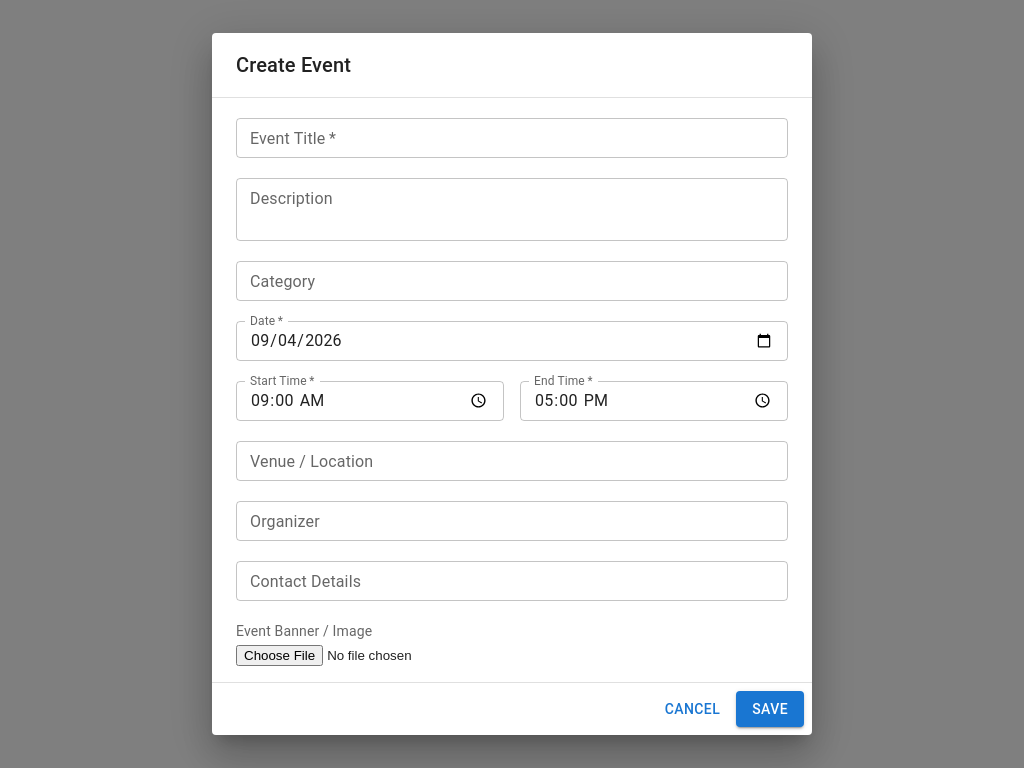
Scenario: EventFormDialog › rejects an event date in the past
The width and height of the screenshot is (1024, 768).
Type "Diwali Milan" into the field labelled "Event Title *".
click(512, 138); type("Diwali Milan")  # box x1=236 y1=118 x2=788 y2=158
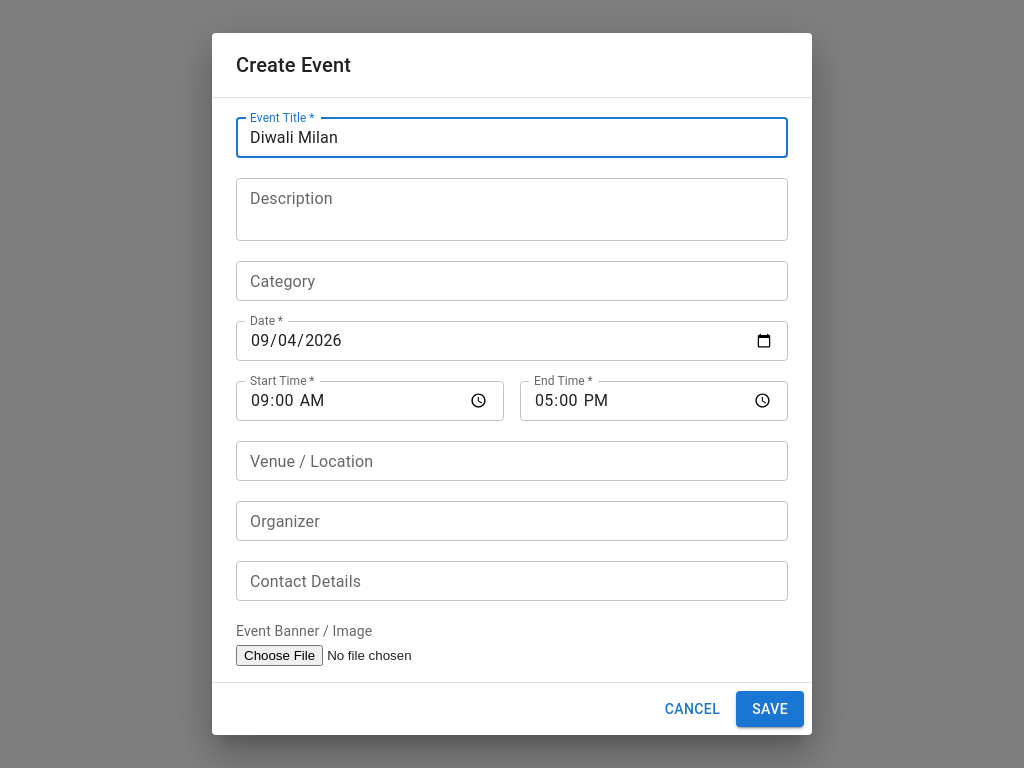
Type "2020-01-01" into the date field labelled "Date *".
click(512, 341); type("2020-01-01")  # box x1=236 y1=321 x2=788 y2=361
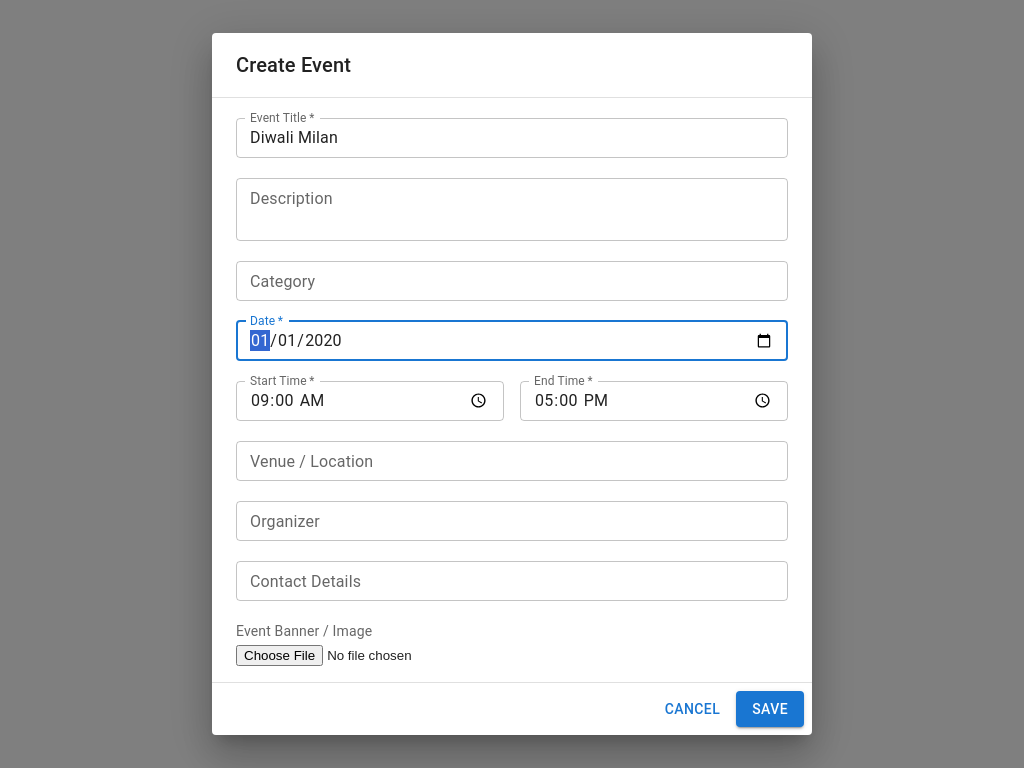
Click the button "Save".
click(770, 709)  # box x1=736 y1=691 x2=804 y2=727
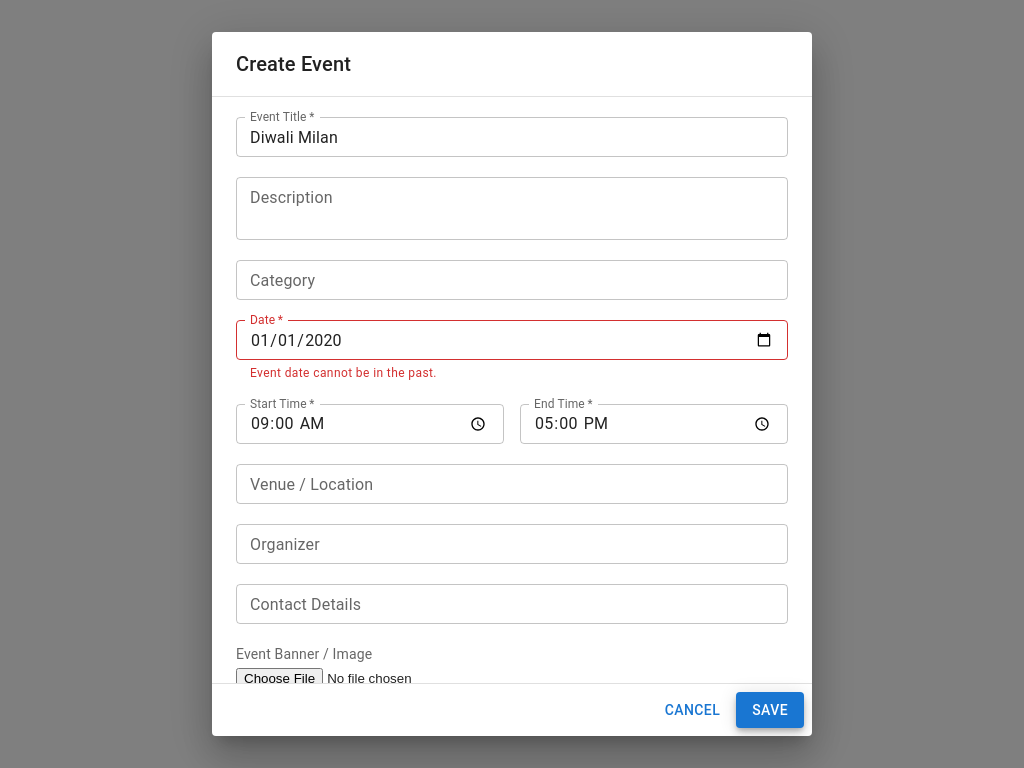
Expected: the text "Event date cannot be in the past." is shown, x1=250 y1=366 x2=437 y2=380
